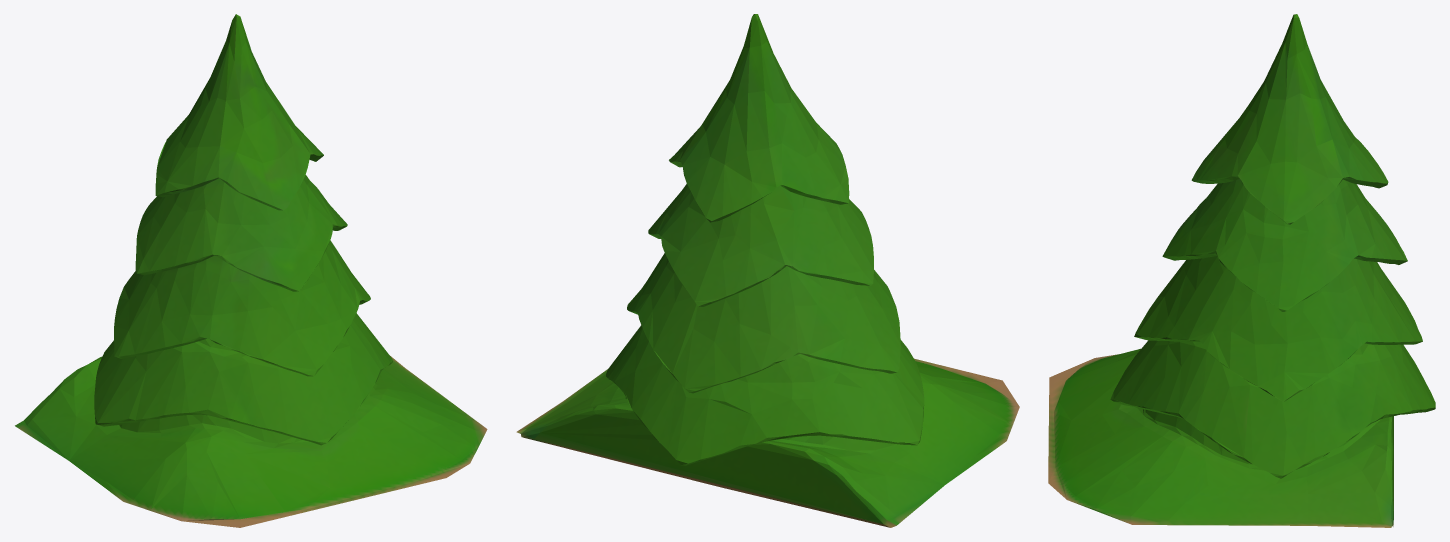
Rendered from pine_1.glb.
The picture shows the model from 3 angles, left to right: view 1: azimuth 30°, elevation 25°; view 2: azimuth 150°, elevation 25°; view 3: azimuth 270°, elevation 25°; orthographic projection. The views are drawn at different scales.
Visible parts, largest first — view 1: pine; view 2: pine; view 3: pine.
Boxes of the visible parts, x1,y1,x2,y2 form: pine: (15, 14, 487, 527); pine: (516, 14, 1019, 527); pine: (1048, 14, 1435, 527).
Size of the model in its own units: 4.77 by 5.2 by 4.28.
1 material, 1 textured.
